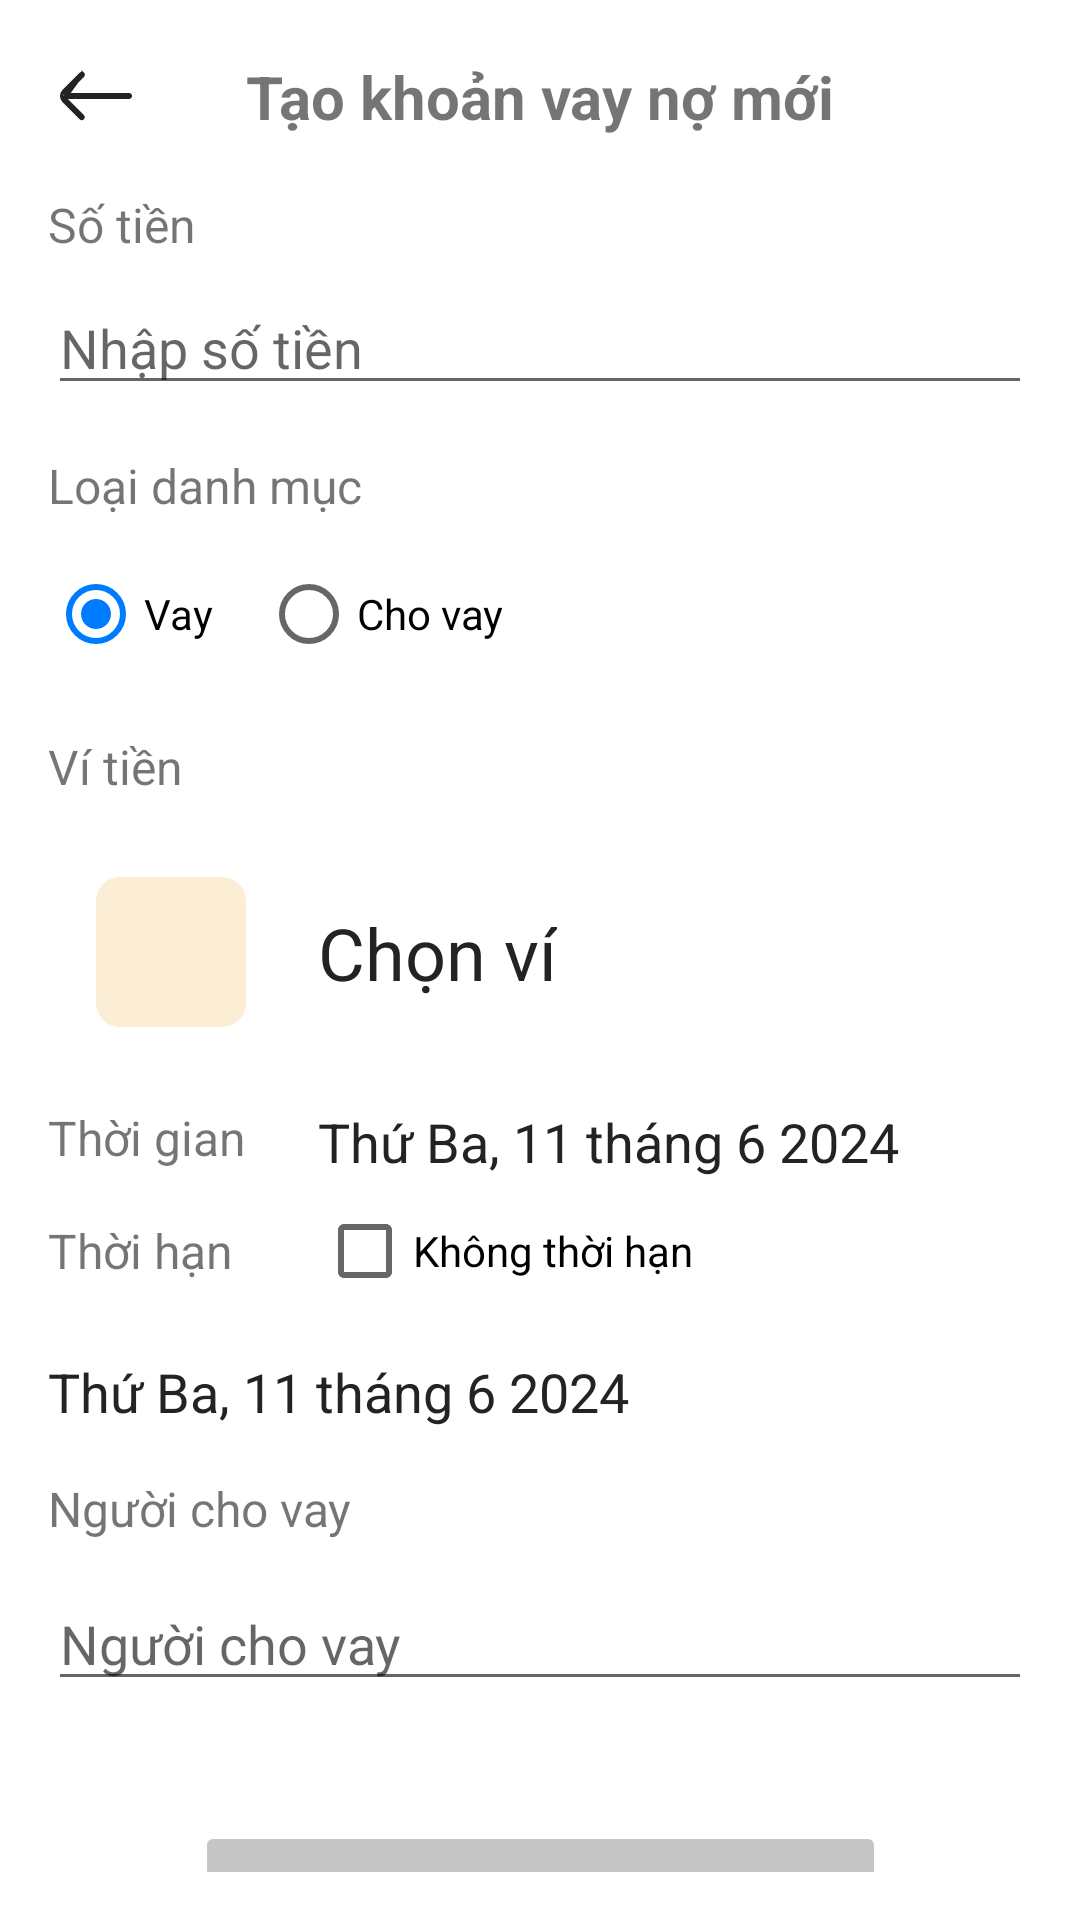

Screen size 1080 x 1920. Icon name, then its box in pixels as [x1,y1,x2,y2]:
back: [60,70,132,121]
